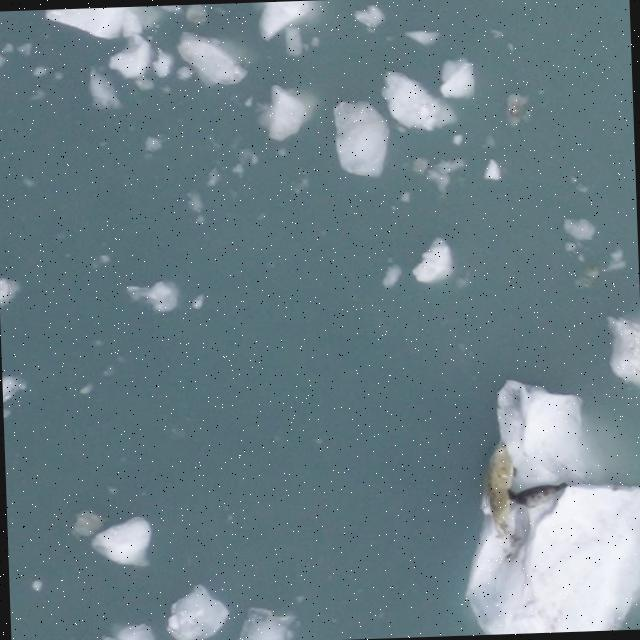seal: (486, 444, 513, 535), (508, 481, 568, 511)
